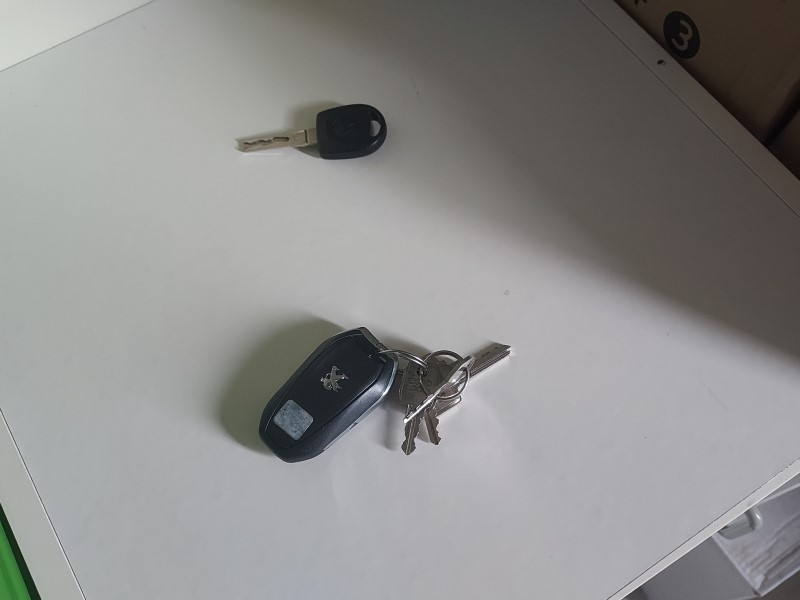carkey: (256, 323, 401, 464)
key: (235, 99, 385, 168), (397, 350, 468, 458)
